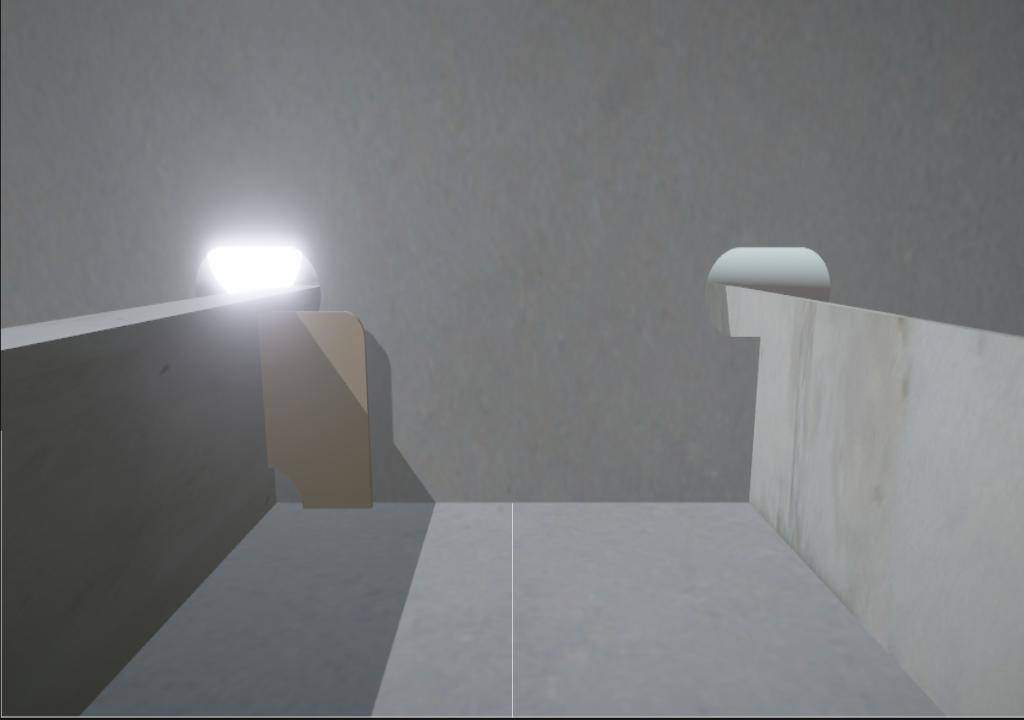fillet_yong_jeop_jang: (270, 498, 755, 507)
longi_yong_jeop_jang: (743, 336, 764, 505)
plate_CP06: (262, 310, 372, 509)
